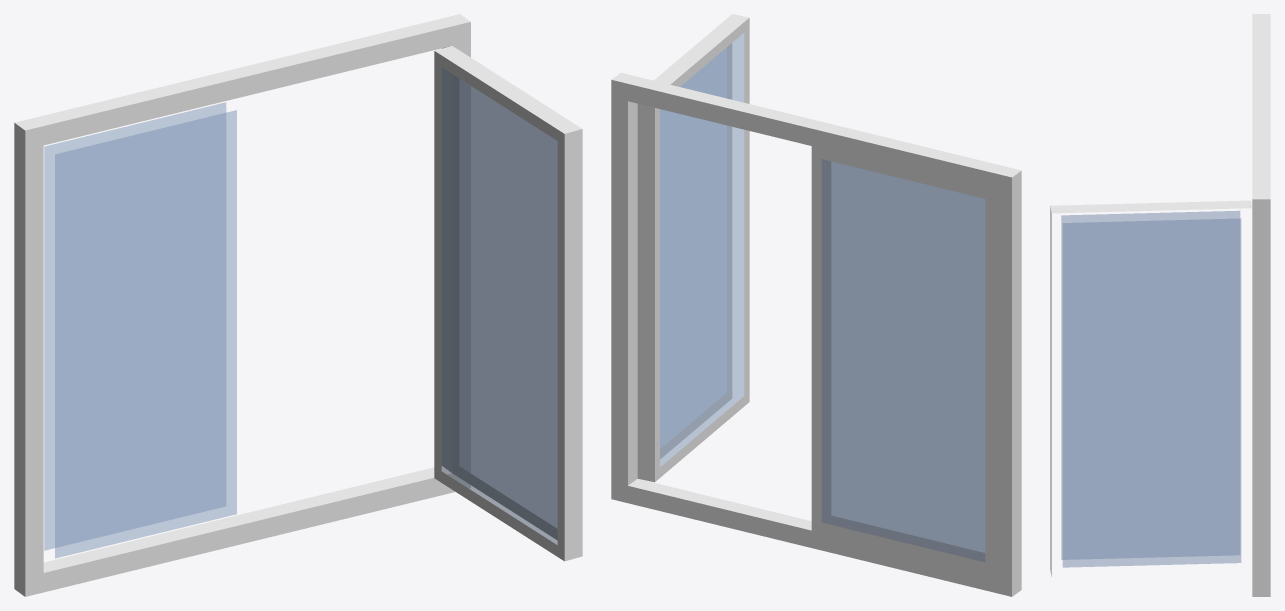
The model's file is Swinging-new.glb.
3 views of the same model, side by side, from view 1: azimuth 30°, elevation 25°; view 2: azimuth 150°, elevation 25°; view 3: azimuth 270°, elevation 25° (orthographic). The views are drawn at different scales.
Visible parts, largest first — view 1: Mesh2 Group2 Model, Mesh3 Group3 Model, Mesh1 Group1 Model; view 2: Mesh2 Group2 Model, Mesh3 Group3 Model, Mesh1 Group1 Model; view 3: Mesh3 Group3 Model, Mesh1 Group1 Model.
Boxes of the visible parts, box(x1,y1,x2,y2) form: Mesh2 Group2 Model: box(44, 102, 236, 558); Mesh3 Group3 Model: box(434, 46, 582, 561); Mesh1 Group1 Model: box(14, 14, 470, 596); Mesh2 Group2 Model: box(811, 146, 995, 575); Mesh3 Group3 Model: box(637, 14, 749, 482); Mesh1 Group1 Model: box(611, 72, 1021, 596); Mesh3 Group3 Model: box(1050, 200, 1251, 576); Mesh1 Group1 Model: box(1252, 14, 1270, 596).
Size of the model in its own units: 1200 by 1200 by 602.
